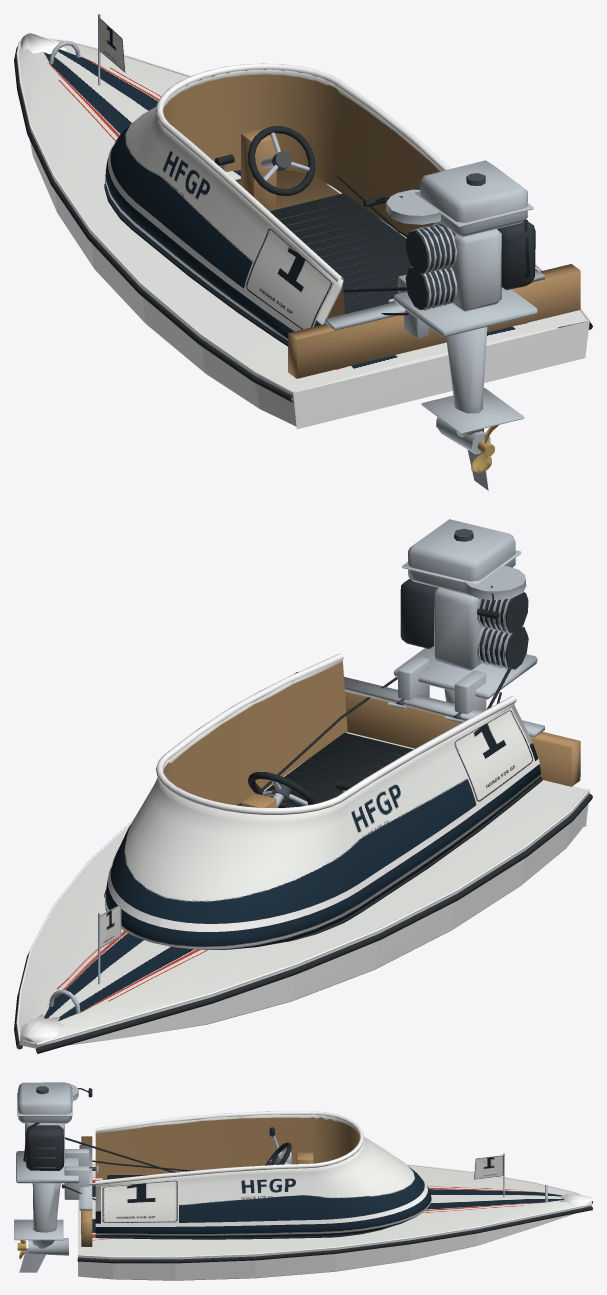
The model's file is boat_lod1.glb.
3 renders of one model, top to bottom at view 1: azimuth 30°, elevation 25°; view 2: azimuth 150°, elevation 25°; view 3: azimuth 270°, elevation 25°, orthographic. The views are drawn at different scales.
Visible parts, largest first — view 1: BoatMesh, MotorMesh; view 2: BoatMesh, MotorMesh; view 3: BoatMesh, MotorMesh.
Boxes of the visible parts, <box> form: BoatMesh: <box>14,14,592,429</box>; MotorMesh: <box>363,160,537,490</box>; BoatMesh: <box>14,653,592,1053</box>; MotorMesh: <box>393,519,537,703</box>; BoatMesh: <box>61,1111,592,1280</box>; MotorMesh: <box>14,1082,92,1272</box>.
Size of the model in its own units: 1.34 by 1.15 by 3.26.
Materials: 4 (2 with a texture image).
